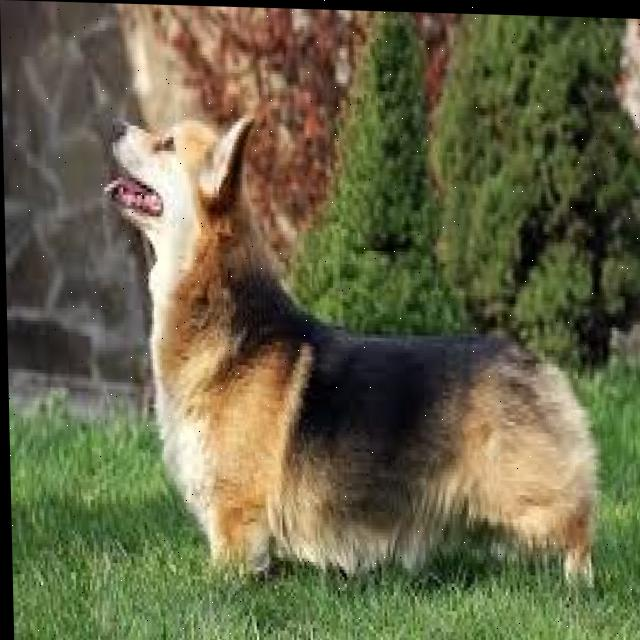CORGI: (95, 82, 640, 627)
